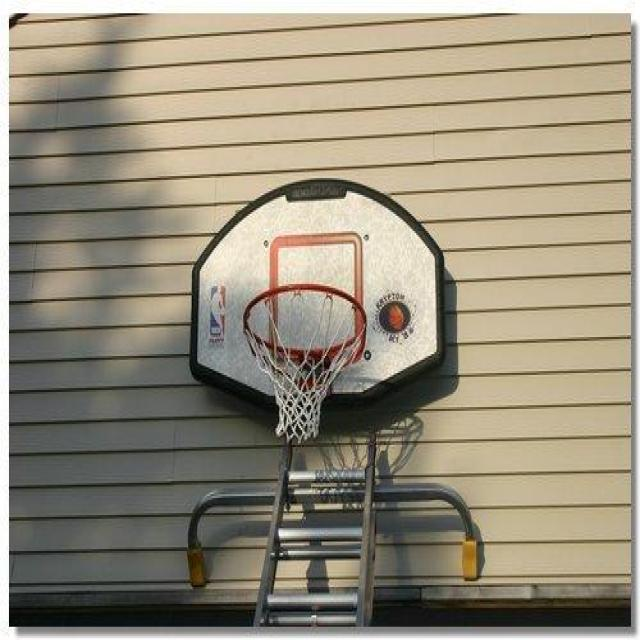hoop: (240, 274, 380, 452)
